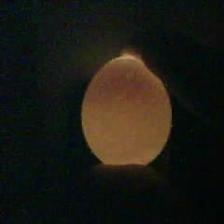infertile: (78, 52, 176, 170)
